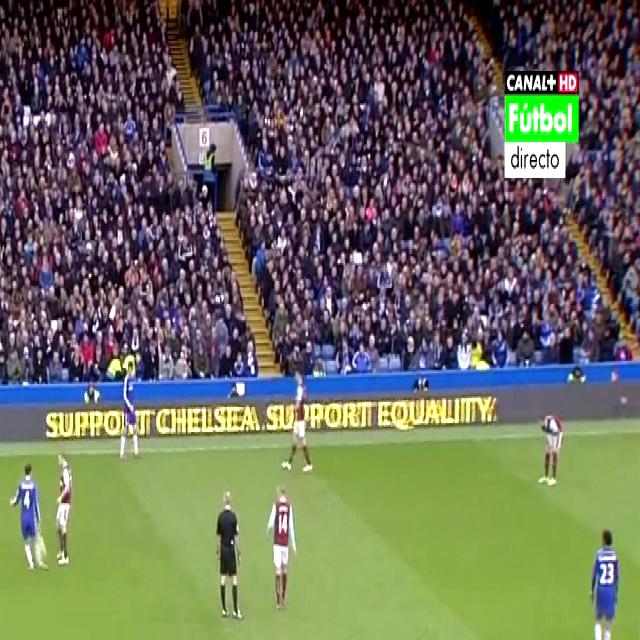referee: (207, 479, 252, 627)
soccer-player: (584, 515, 624, 640), (260, 479, 296, 617), (8, 454, 47, 581), (48, 442, 78, 567), (287, 366, 320, 476), (534, 400, 566, 494), (114, 369, 142, 463)
